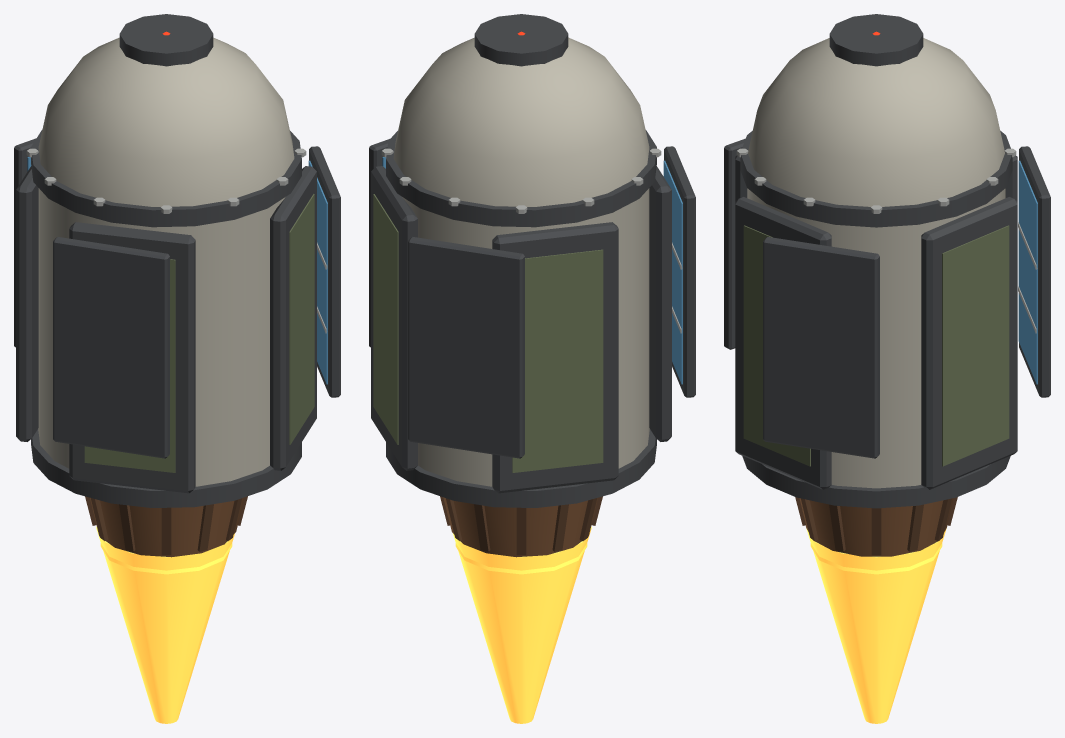
File: cargo-pod.glb
The picture shows the model from 3 angles, left to right: view 1: azimuth 30°, elevation 25°; view 2: azimuth 150°, elevation 25°; view 3: azimuth 270°, elevation 25°; orthographic projection.
Parts seen in each view (by area): view 1: body, anim_panel.001, anim_flame, anim_panel.002, anim_panel; view 2: body, anim_panel, anim_flame, anim_panel.001, anim_panel.002; view 3: body, anim_panel.002, anim_flame, anim_panel, anim_panel.001.
Part boxes in pixels (bbox=[...]): body: bbox=[16, 14, 316, 557]; anim_panel.001: bbox=[53, 237, 169, 458]; anim_flame: bbox=[96, 526, 234, 723]; anim_panel.002: bbox=[308, 146, 340, 397]; anim_panel: bbox=[14, 138, 36, 347]; body: bbox=[371, 14, 671, 557]; anim_panel: bbox=[408, 237, 524, 458]; anim_flame: bbox=[453, 526, 591, 723]; anim_panel.001: bbox=[663, 146, 695, 397]; anim_panel.002: bbox=[369, 139, 389, 347]; body: bbox=[735, 14, 1017, 556]; anim_panel.002: bbox=[763, 237, 879, 458]; anim_flame: bbox=[806, 528, 946, 723]; anim_panel: bbox=[1018, 146, 1050, 397]; anim_panel.001: bbox=[724, 138, 745, 349].
Bounding box in the file's own units: 1.46 × 3.23 × 1.39.
